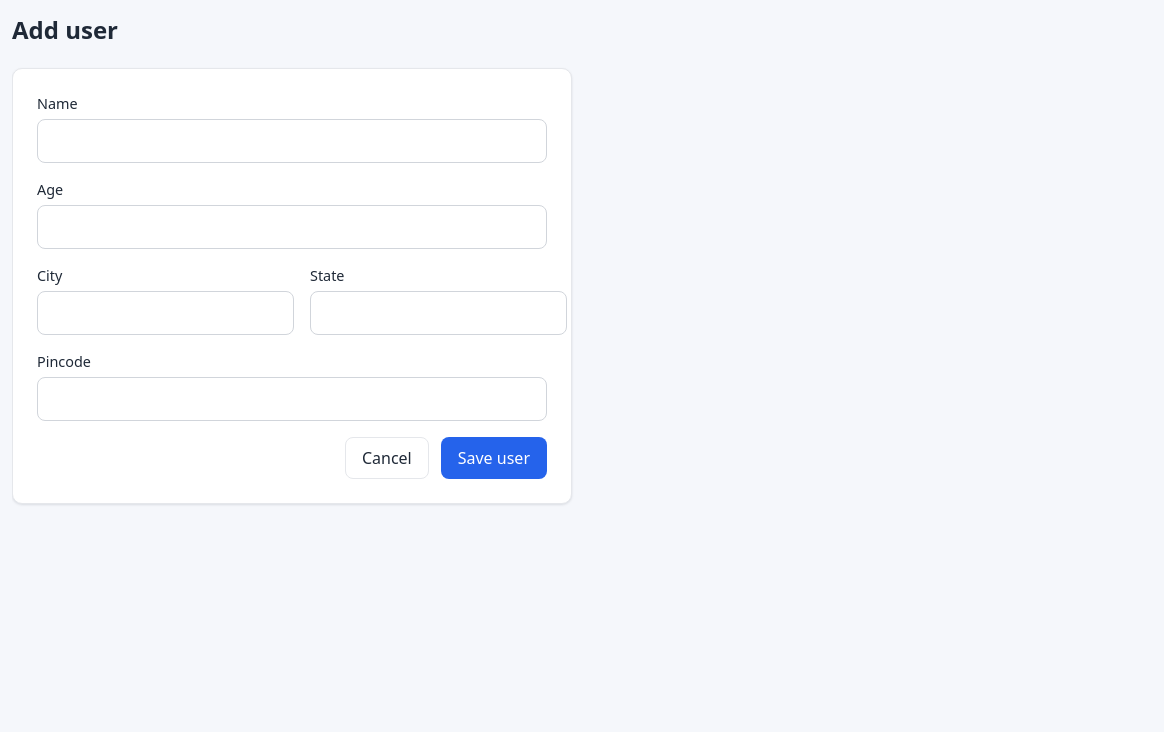
Test: AddUserPage › creates the user, redirects to the list and shows a success toast
Type "Jane Doe" into the field labelled "Name".
click(292, 141); type("Jane Doe")  # box [37,119,547,163]
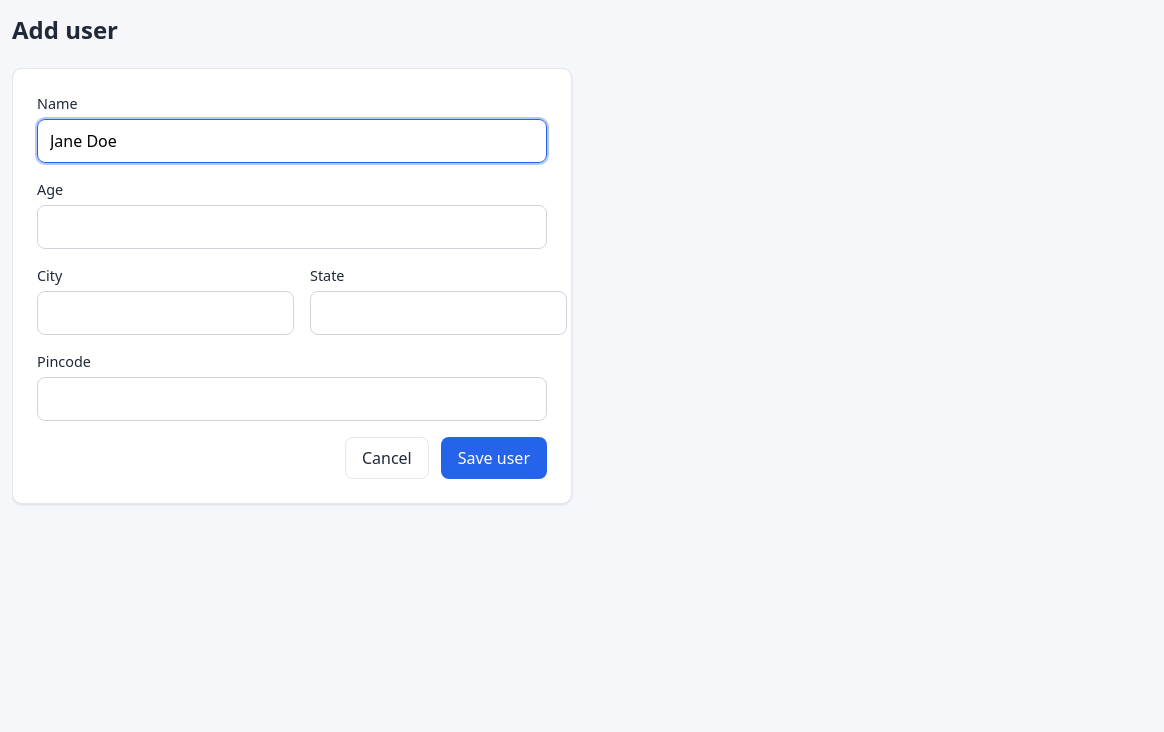
Type "30" into the number field labelled "Age".
click(292, 227); type("30")  # box [37,205,547,249]
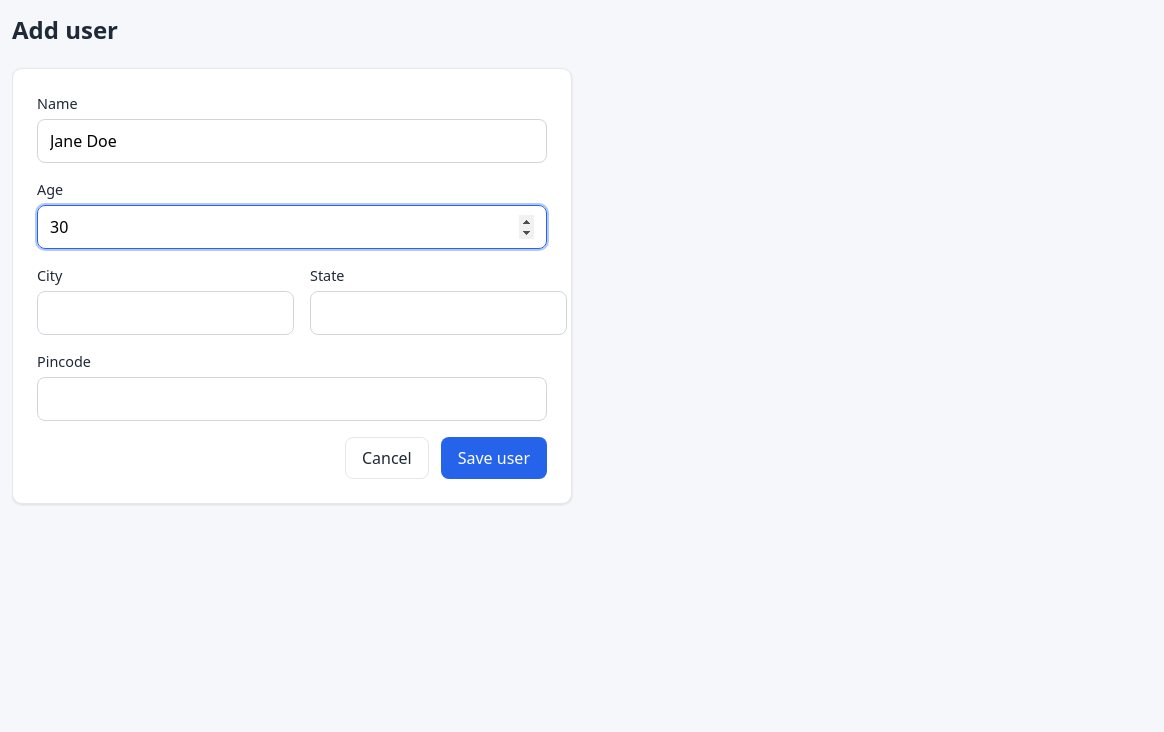
Type "Mumbai" into the field labelled "City".
click(166, 313); type("Mumbai")  # box [37,291,294,335]
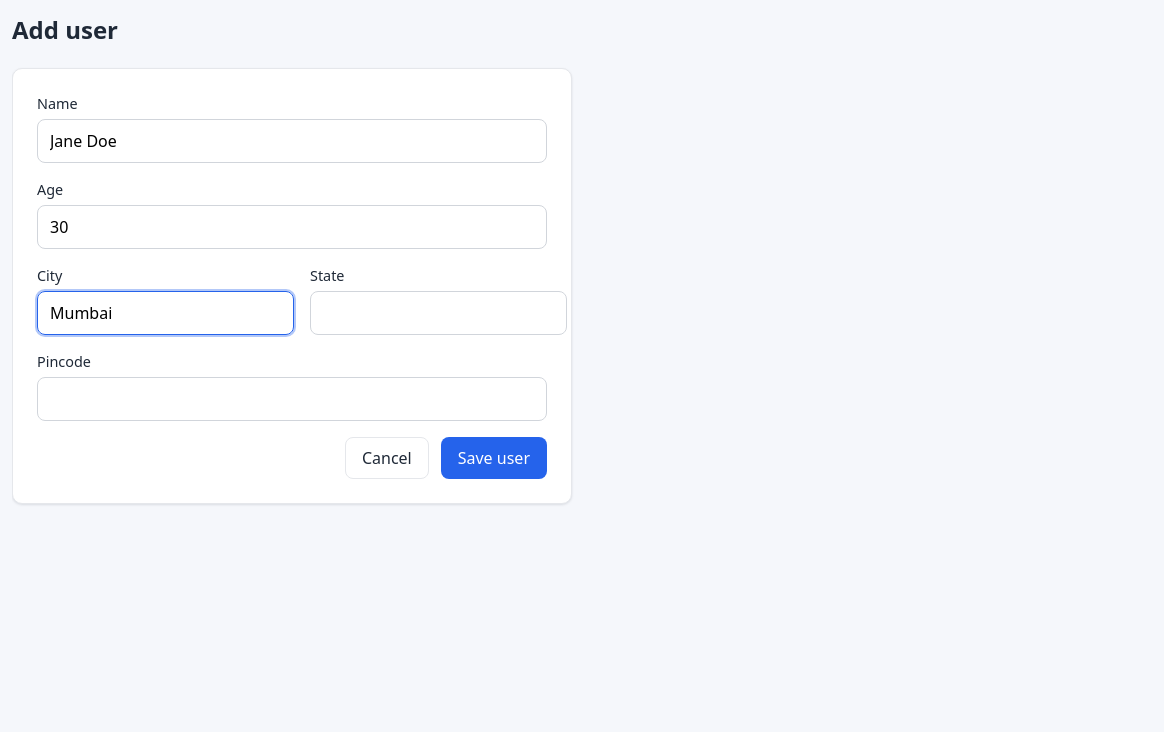
Type "Maharashtra" into the field labelled "State".
click(438, 313); type("Maharashtra")  # box [310,291,567,335]
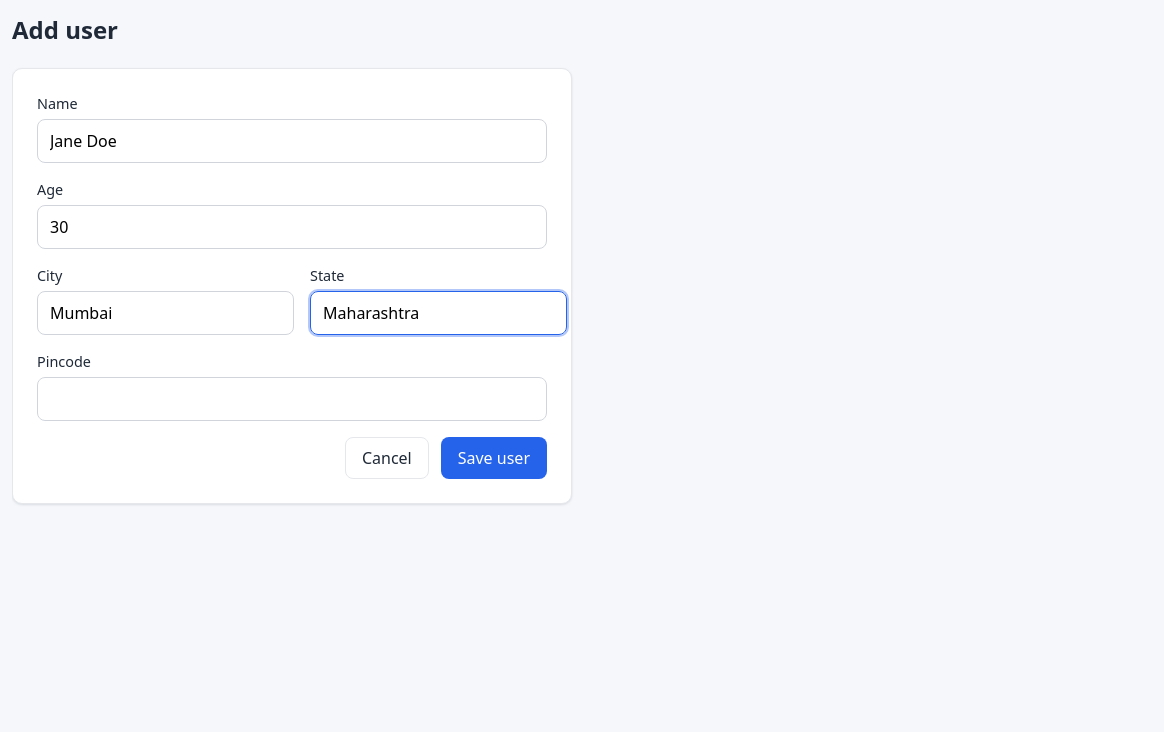
Type "400001" into the field labelled "Pincode".
click(292, 399); type("400001")  # box [37,377,547,421]
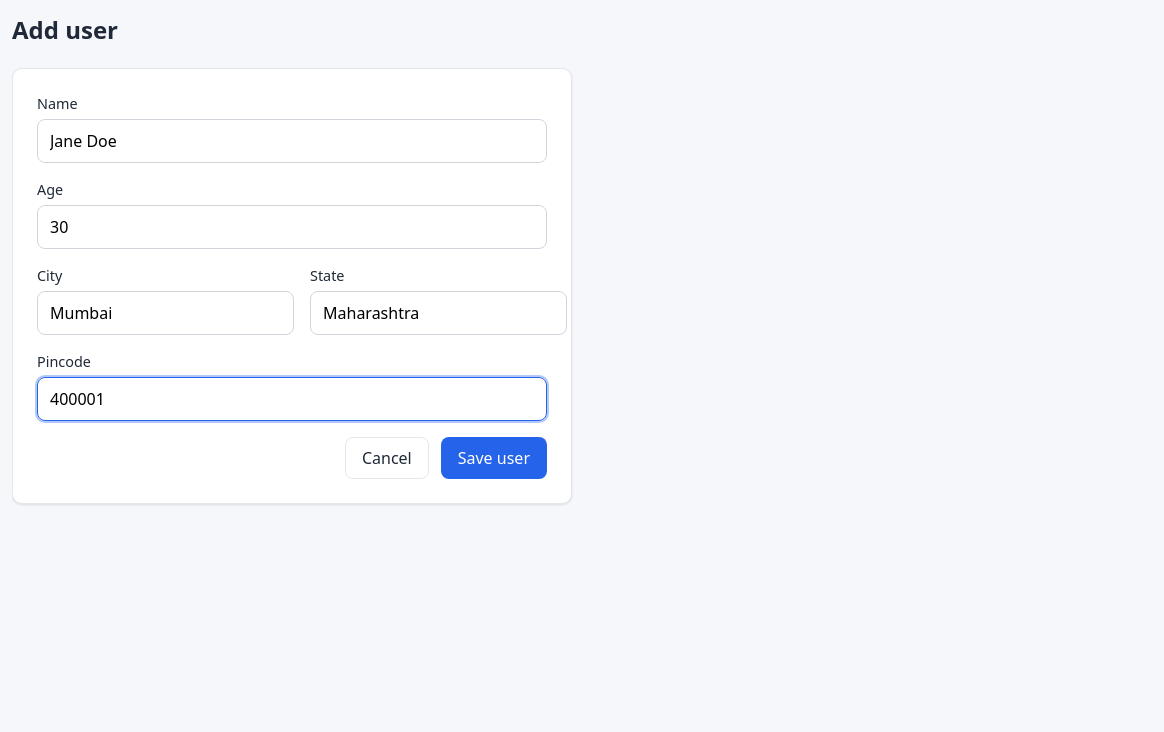
Click the button "Save user".
click(494, 458)  # box [441,437,547,479]
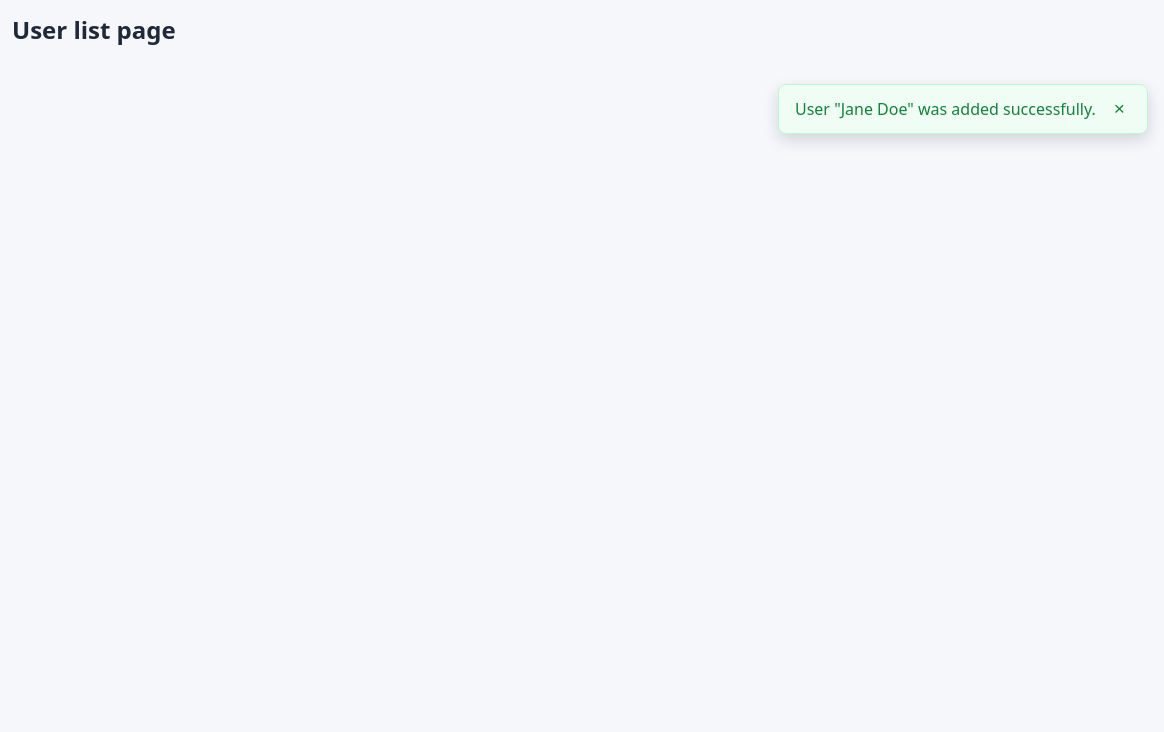
Now the heading "User list page" is shown, box [12,13,176,46]
Now the message shows "User \"Jane Doe\" was added successfully.", box [795,98,1096,120]
